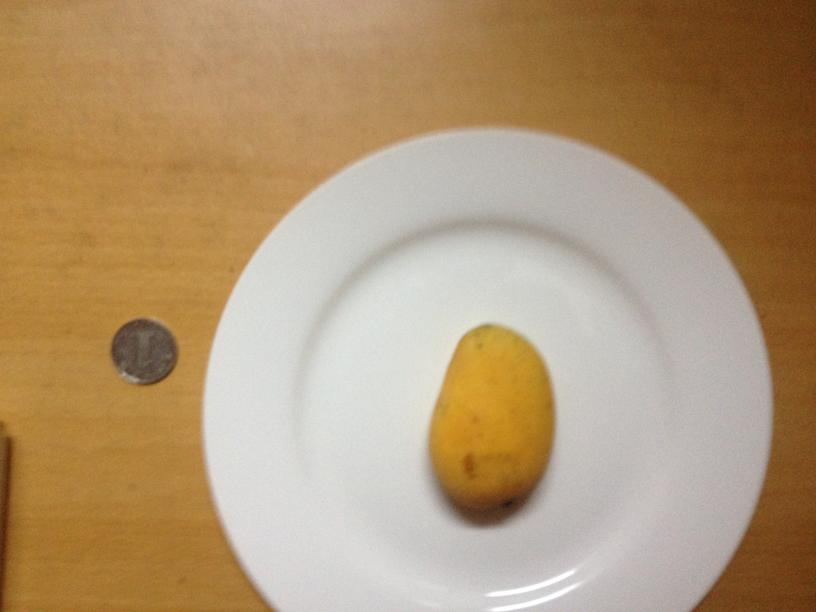coin: (110, 321, 175, 383)
mango: (428, 325, 553, 508)
